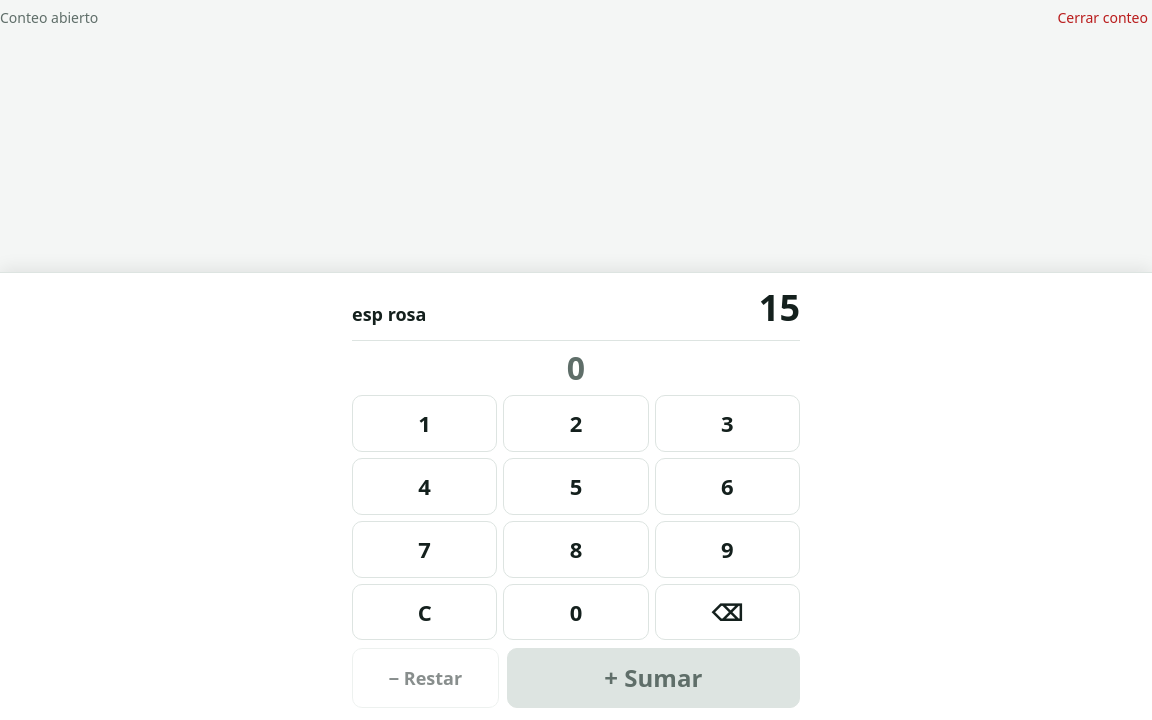
Test case: Conteo · con un conteo abierto (teclado para una mano) › si la base rechaza una carga (p. ej. otro restó antes), se avisa y se puede descartar el aviso
Click the button "5".
click(576, 486)  # box [503, 458, 649, 515]
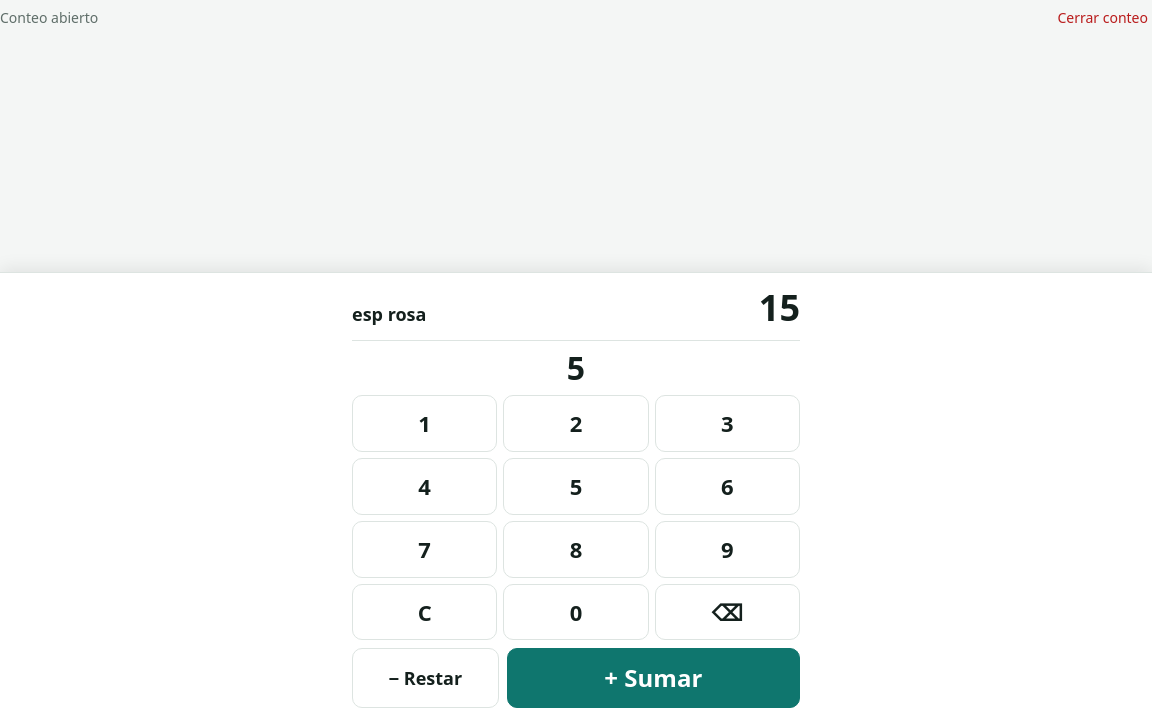
Click the button "− Restar".
click(425, 678)  # box [352, 648, 499, 708]
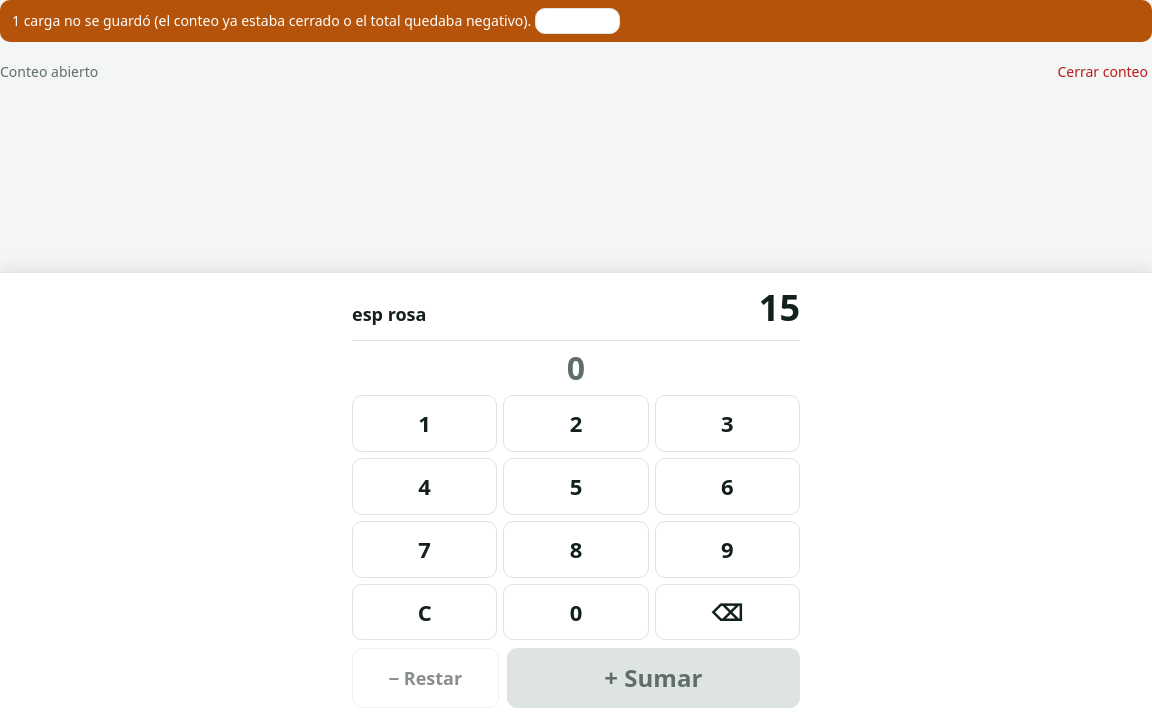
Check: the text "1 carga no se guardó" is shown, box [12, 11, 151, 30]
Click the button "Entendido".
click(577, 21)  # box [535, 8, 620, 34]
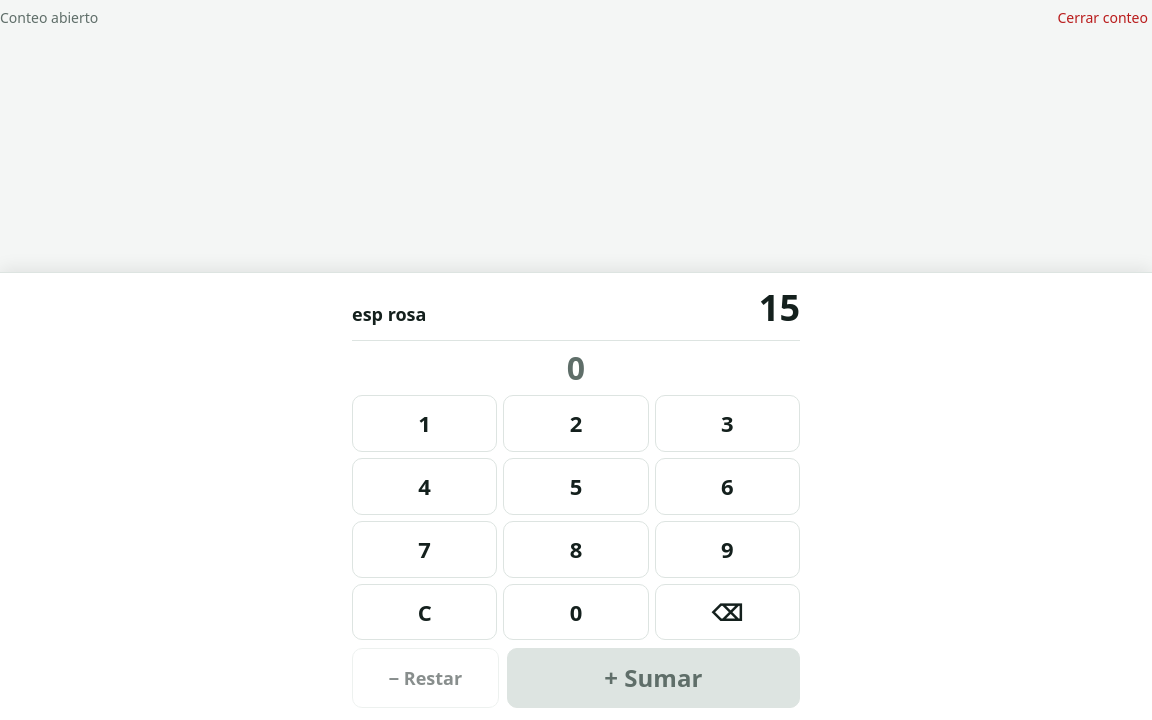
Check: the text "no se guardó" is gone
